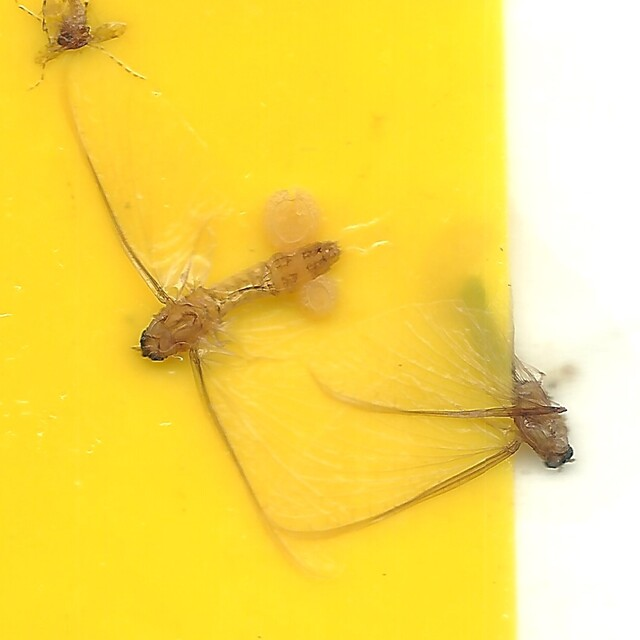Ephemeroptera: (59, 62, 365, 578), (263, 254, 581, 537)
